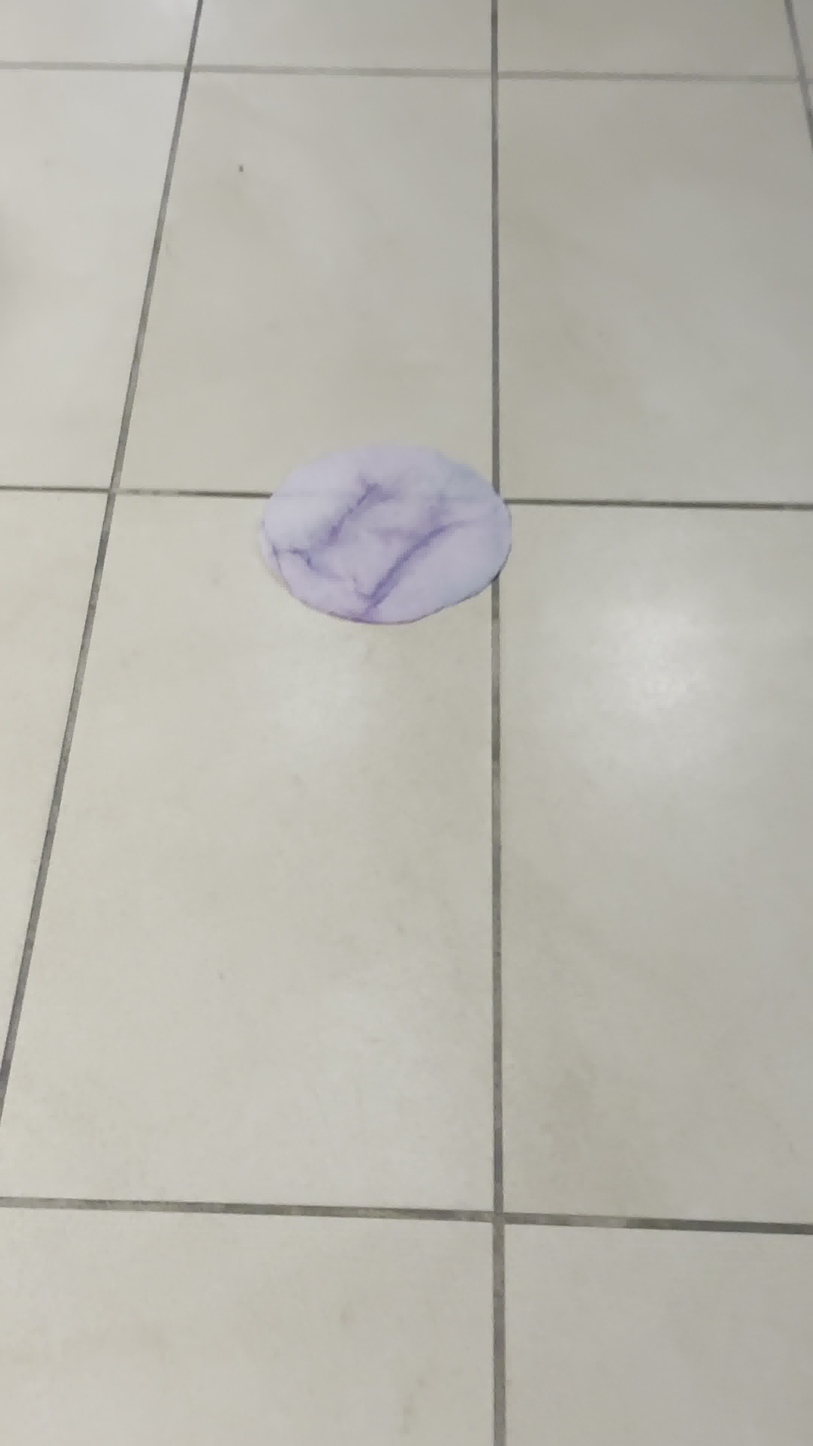Target: (255, 441, 513, 626)
